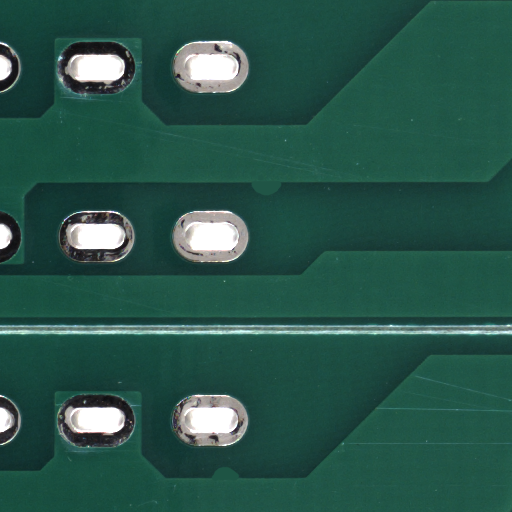Spur: (268, 185, 305, 201), (226, 472, 257, 485)
